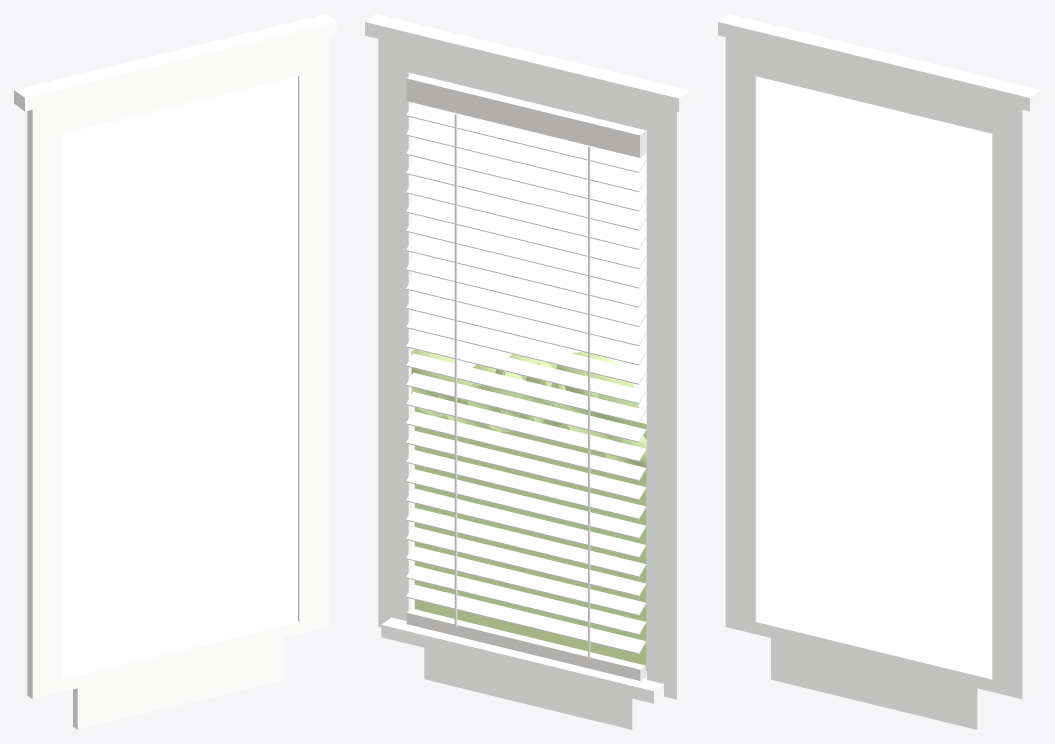
File: rios_window_west.glb
The picture shows the model from 3 angles, left to right: view 1: azimuth 30°, elevation 25°; view 2: azimuth 150°, elevation 25°; view 3: azimuth 330°, elevation 25°; orthographic projection.
Visible parts, largest first — view 1: root; view 2: root; view 3: root.
Boxes of the visible parts, x1=… form: root: x1=14, y1=14, x2=336, y2=729; root: x1=365, y1=14, x2=689, y2=729; root: x1=718, y1=14, x2=1040, y2=729.
Bounding box in the file's own units: 0.8839 × 1.75 × 0.0747.
